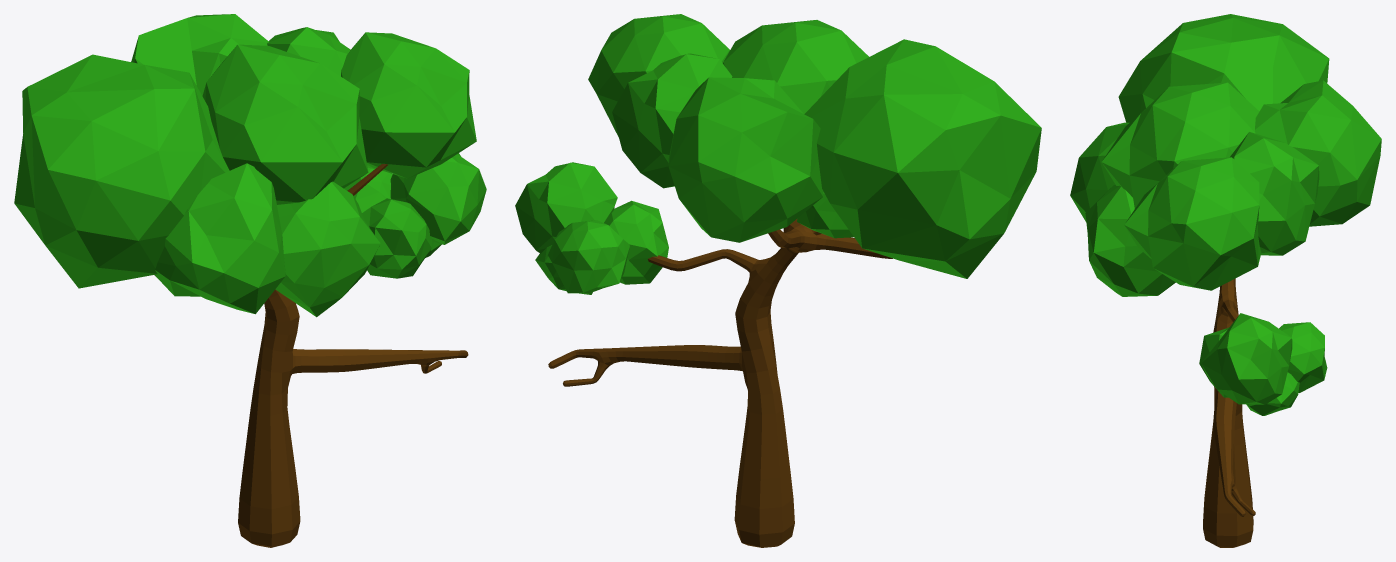
File: arvore3.fbx
3 renders of one model, left to right at view 1: azimuth 30°, elevation 25°; view 2: azimuth 150°, elevation 25°; view 3: azimuth 270°, elevation 25°, orthographic. The views are drawn at different scales.
Parts seen in each view (by area): view 1: Icosphere, Plane; view 2: Icosphere, Plane; view 3: Icosphere, Plane.
Part boxes in pixels (x1,y1,x2,y2): Icosphere: (14,14,486,317); Plane: (154,164,468,547); Icosphere: (515,14,1041,294); Plane: (548,219,892,547); Icosphere: (1070,14,1381,415); Plane: (1203,278,1255,547).
Size of the model in its own units: 1104 by 1129 by 711.
